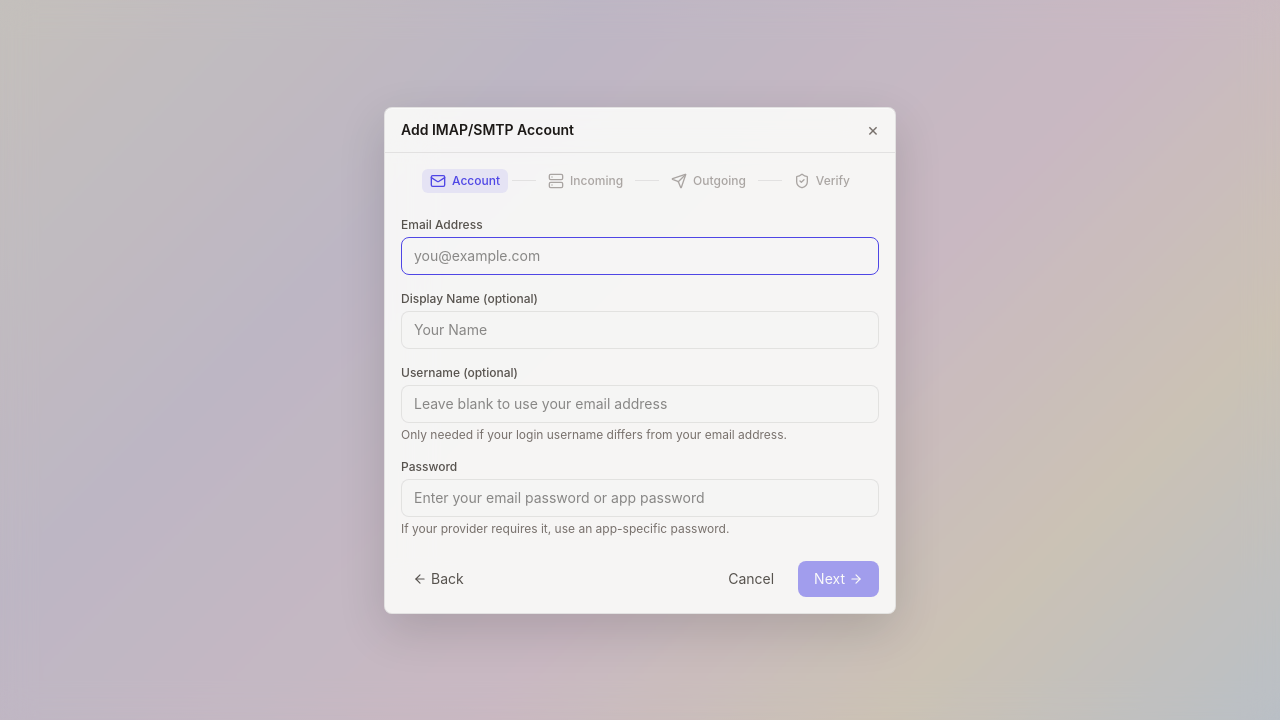
AddImapAccount › warns when it has to guess the servers
The image size is (1280, 720).
Type "me@unknown-domain.tv" into the field with placeholder "you@example.com" at (640, 256), box [401,236,879,274]
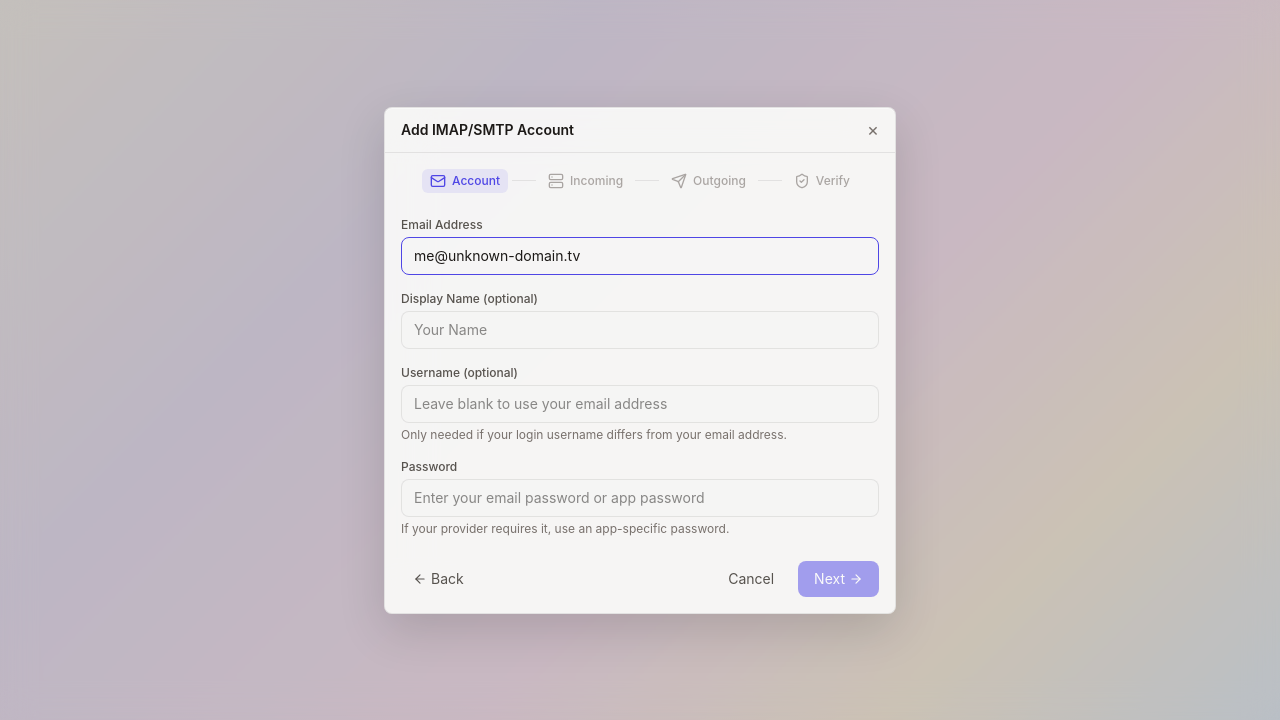
Leave the field with placeholder "you@example.com", box [401,236,879,274]
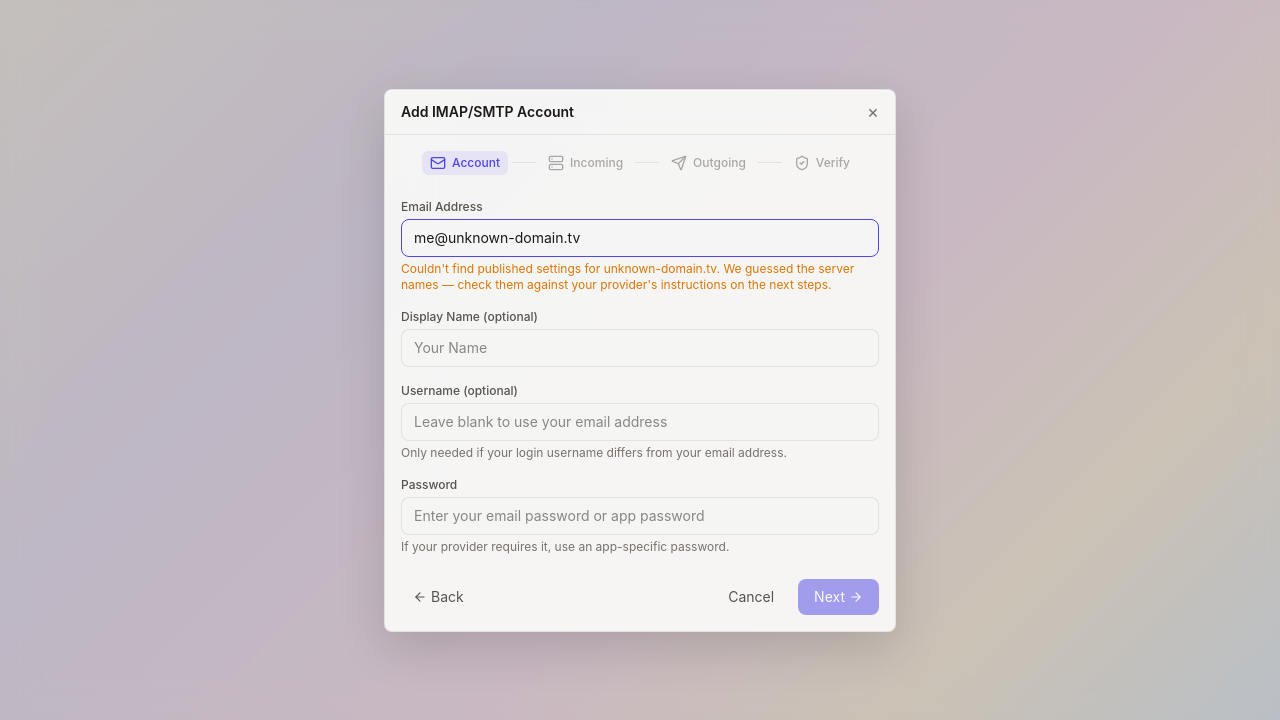
expect the text "Couldn.t find published settings" is shown: met, box [401,260,604,276]
